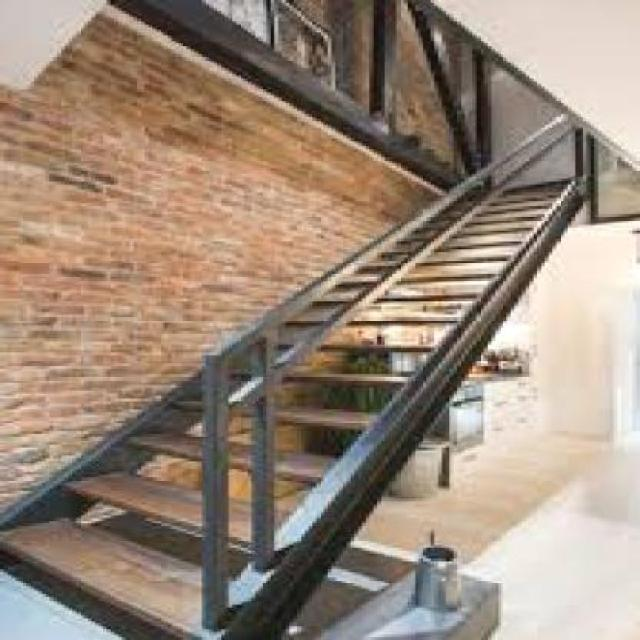stair: (0, 47, 588, 638)
